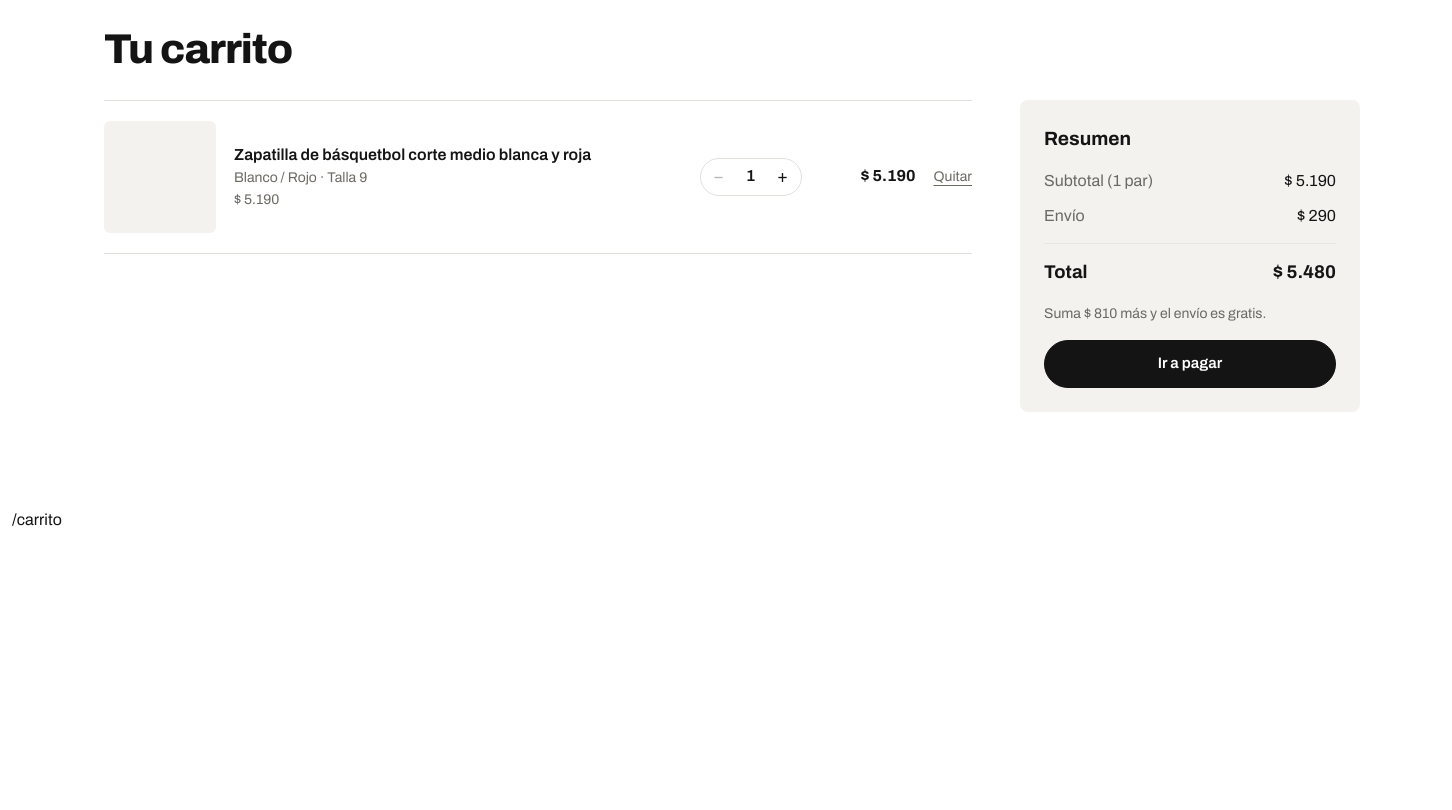
Scenario: carrito › muestra el error si el pago no se pudo iniciar
The image size is (1452, 810).
Click the button "Ir a pagar" at (1190, 364), box [1044,340,1336,388]
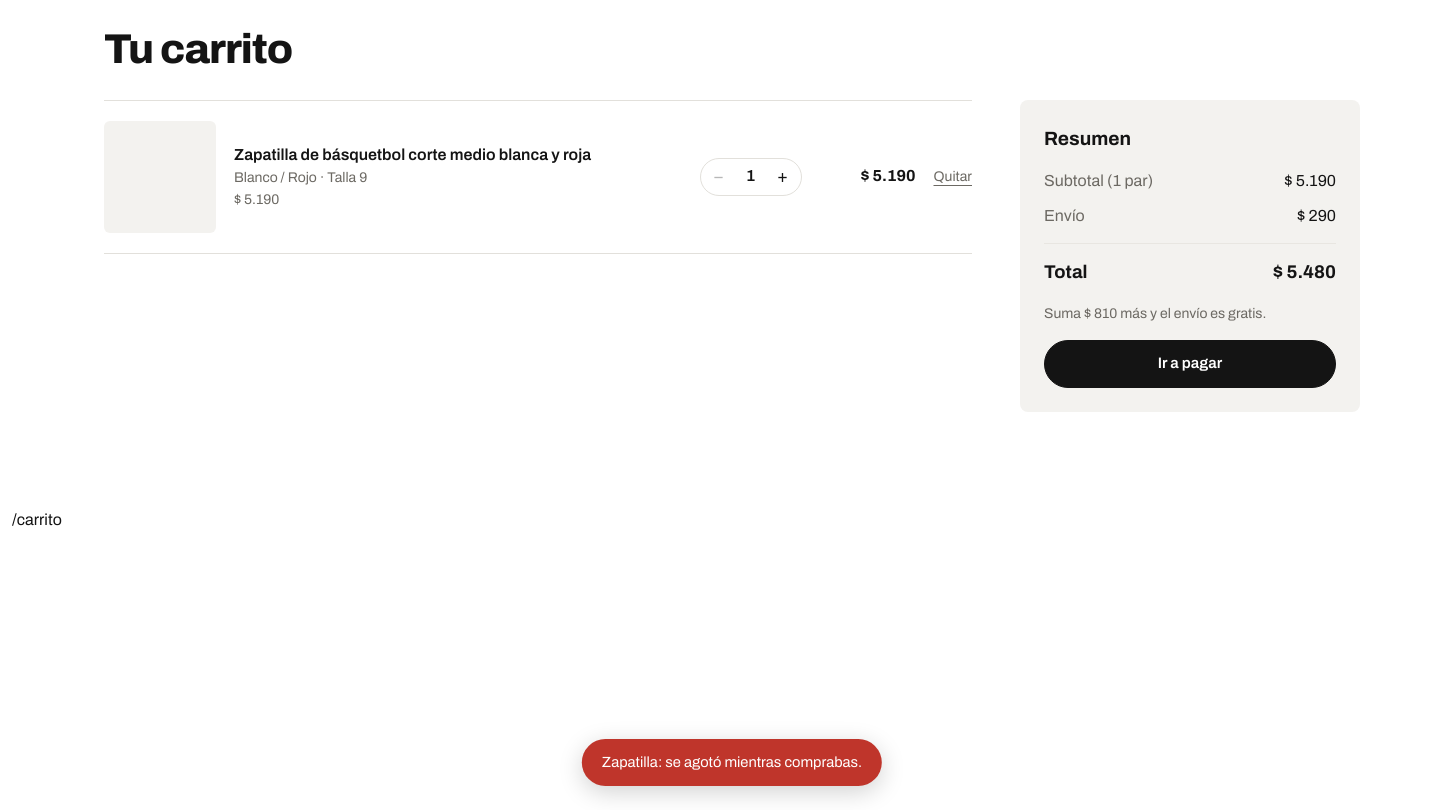
Result: the text "Zapatilla: se agotó mientras comprabas." is shown at [582,739,882,786]
